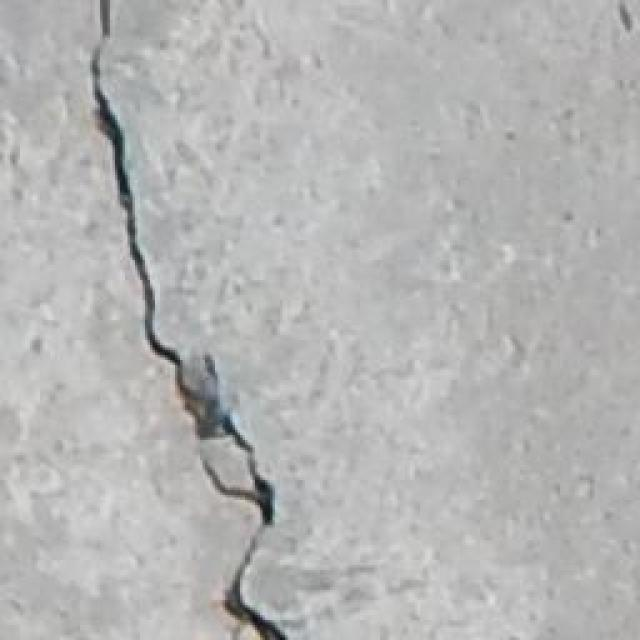concrete-crack: (83, 1, 298, 640)
